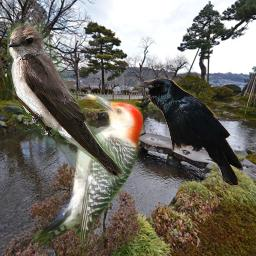Crow: (137, 78, 244, 186)
Swallow: (7, 23, 126, 179)
Woodpecker: (27, 87, 143, 255)
